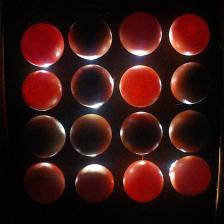fertile: (20, 162, 67, 209), (19, 114, 66, 159), (70, 64, 114, 110), (68, 16, 113, 60), (119, 10, 162, 56), (119, 111, 163, 155), (69, 114, 113, 158), (168, 109, 211, 154), (74, 163, 115, 209), (170, 62, 212, 105)
infertile: (20, 22, 65, 67), (167, 13, 212, 57), (119, 64, 162, 108), (122, 160, 164, 204), (170, 156, 211, 198), (22, 70, 62, 111)
